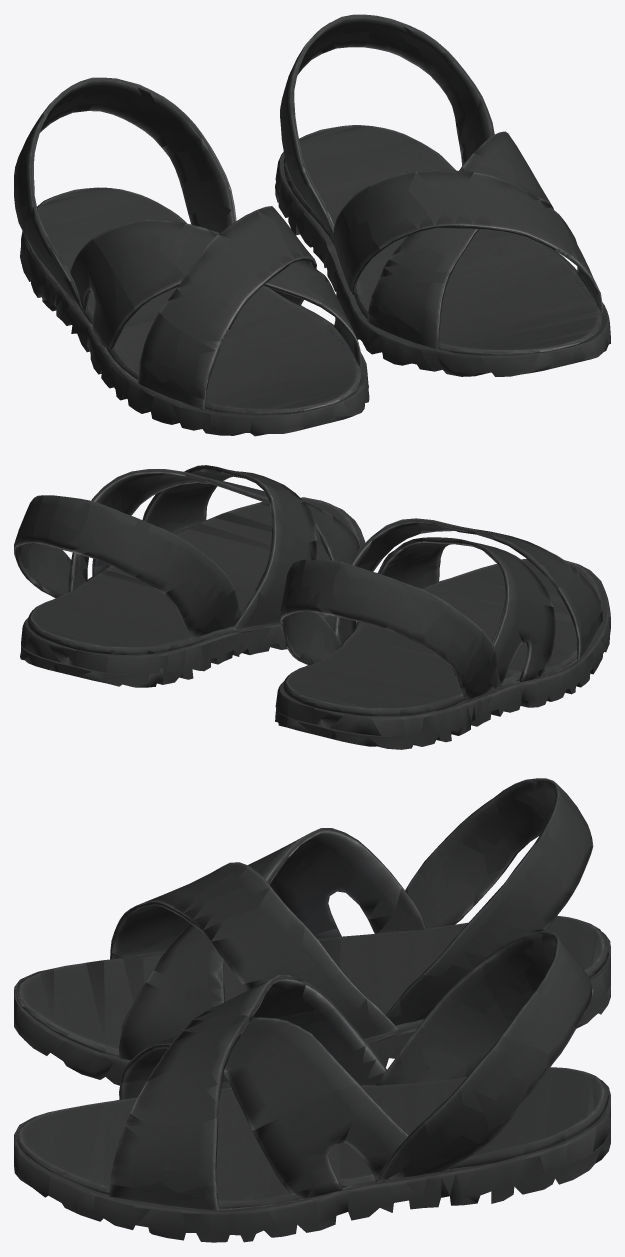
Rendered from M3D_abarca.fbx.
3 views of the same model, one above another, from view 1: azimuth 30°, elevation 25°; view 2: azimuth 150°, elevation 25°; view 3: azimuth 270°, elevation 25° (orthographic). The views are drawn at different scales.
Parts seen in each view (by area): view 1: SM_abarca; view 2: SM_abarca; view 3: SM_abarca.
Part boxes in pixels (box(x1,y1,x2,y2)): SM_abarca: box(14, 14, 610, 436); SM_abarca: box(14, 465, 610, 749); SM_abarca: box(14, 778, 610, 1242).
Bounding box in the file's own units: 0.2855 × 0.1221 × 0.27.
